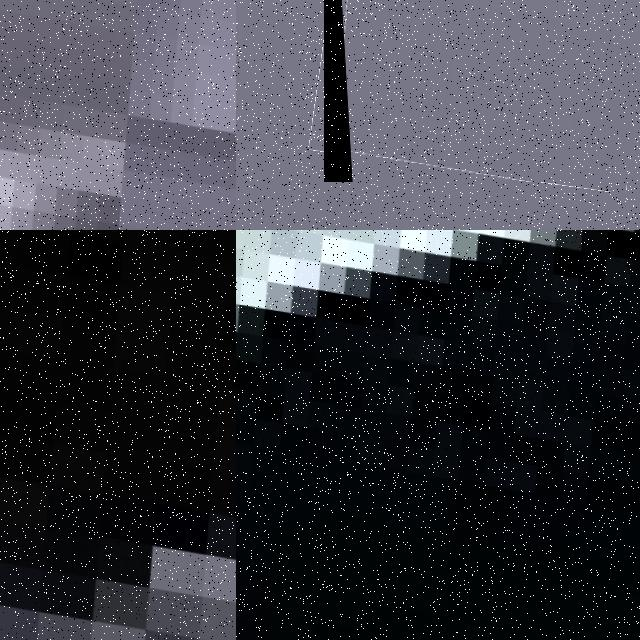0: (324, 0, 640, 182), (0, 0, 236, 230)
drone: (236, 230, 640, 640), (0, 230, 236, 640)
